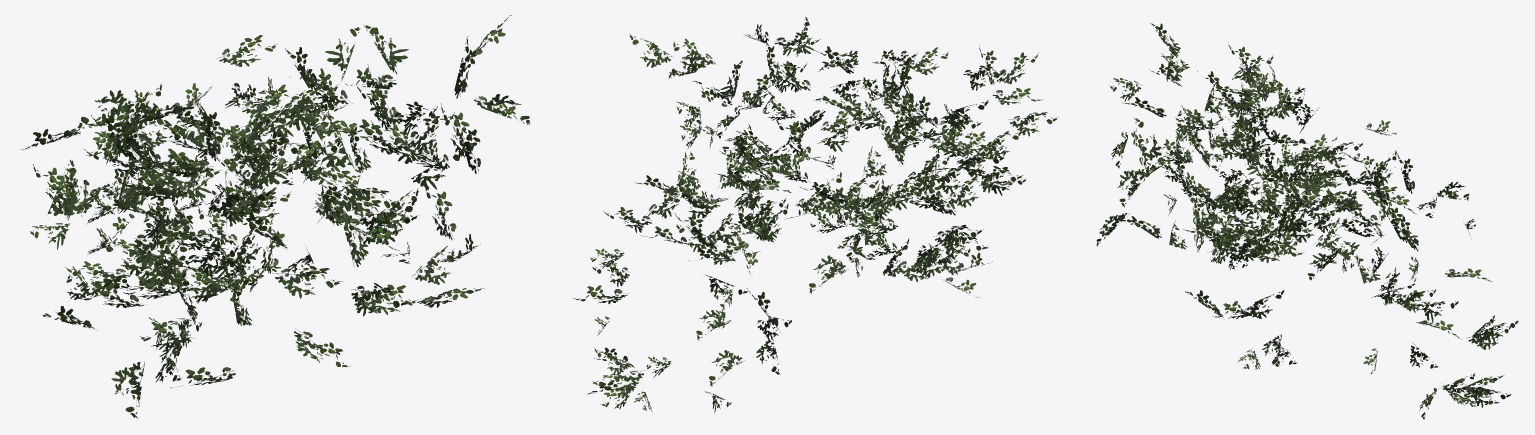
The model's file is MESH_WE17_QuercusAgrifolia_M_LOD2.fbx.
3 renders of one model, left to right at view 1: azimuth 30°, elevation 25°; view 2: azimuth 150°, elevation 25°; view 3: azimuth 270°, elevation 25°, orthographic. The views are drawn at different scales.
Parts seen in each view (by area): view 1: MI_LOD2_001; view 2: MI_LOD2_001; view 3: MI_LOD2_001.
Part boxes in pixels (x1=…): MI_LOD2_001: x1=21, y1=15, x2=530, y2=418; MI_LOD2_001: x1=573, y1=17, x2=1058, y2=413; MI_LOD2_001: x1=1096, y1=23, x2=1518, y2=419.
Size of what is drawn, in the model's own units: 793 by 604 by 809.
